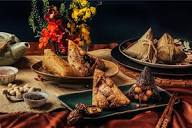zongzi: (92, 69, 129, 108), (67, 40, 104, 76), (126, 66, 159, 104), (123, 28, 156, 62)
